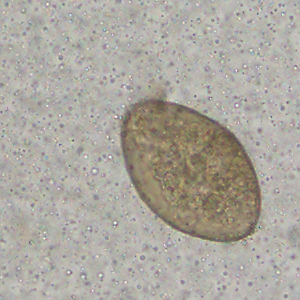Fasciola_hepatica_egg: (119, 99, 263, 244)
